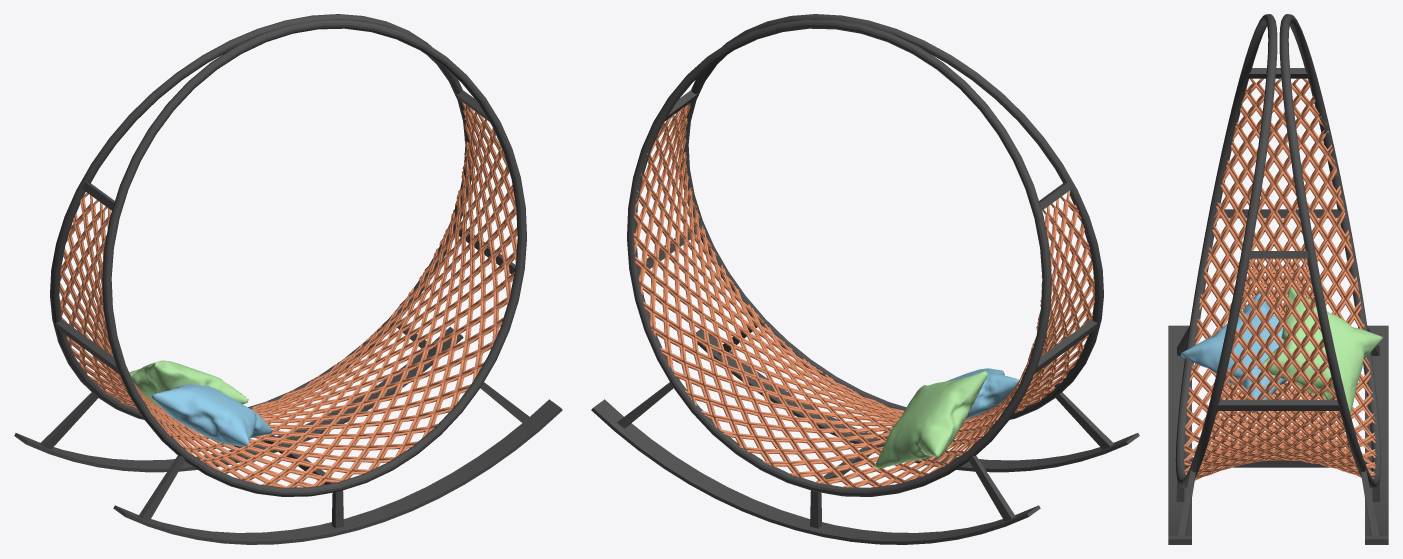
The model's file is Swing.fbx.
3 renders of one model, left to right at view 1: azimuth 30°, elevation 25°; view 2: azimuth 150°, elevation 25°; view 3: azimuth 270°, elevation 25°, orthographic.
Parts seen in each view (by area): view 1: Cube.001, Cube, Cube.002; view 2: Cube.001, Cube, Cube.002; view 3: Cube.001, Cube, Cube.002.
Part boxes in pixels (<box>): Cube.001: <box>59,101,517,487</box>; Cube: <box>14,14,562,544</box>; Cube.002: <box>113,360,272,446</box>; Cube.001: <box>633,103,1094,487</box>; Cube: <box>591,14,1139,544</box>; Cube.002: <box>874,368,1019,468</box>; Cube.001: <box>1184,78,1376,480</box>; Cube: <box>1168,14,1388,544</box>; Cube.002: <box>1181,287,1383,413</box>.
Bounding box in the file's own units: 315 × 323 × 138.
